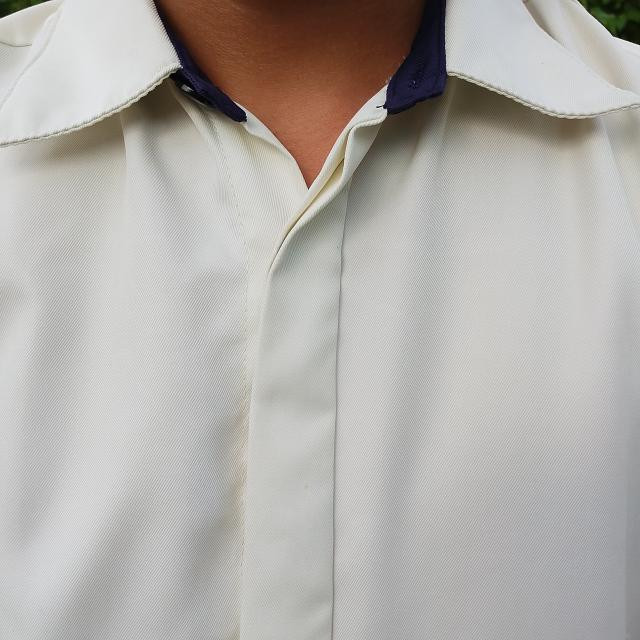education_male_uniform: (0, 0, 640, 640), (307, 0, 640, 323), (11, 3, 347, 293)
